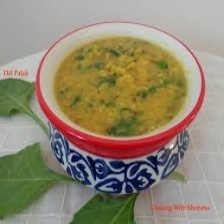dal: (50, 33, 195, 141)
